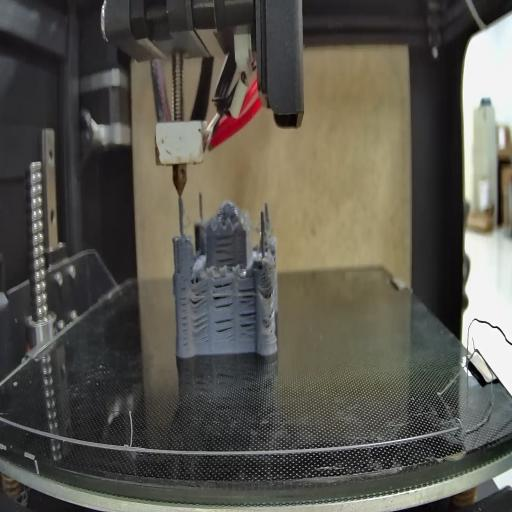cracks: (213, 227, 238, 267), (178, 283, 189, 348), (212, 279, 233, 308), (193, 314, 210, 340), (215, 314, 236, 335), (190, 283, 208, 307), (239, 310, 256, 334), (238, 282, 256, 304)
